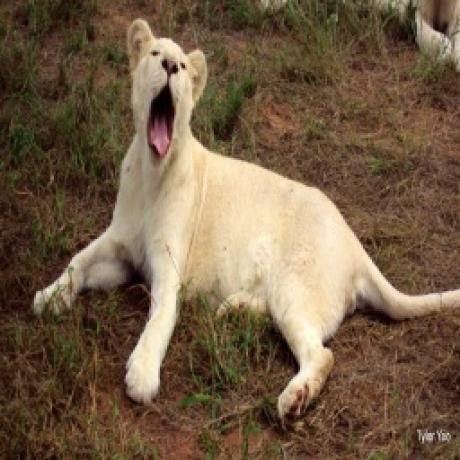Lion: (30, 16, 460, 424)
